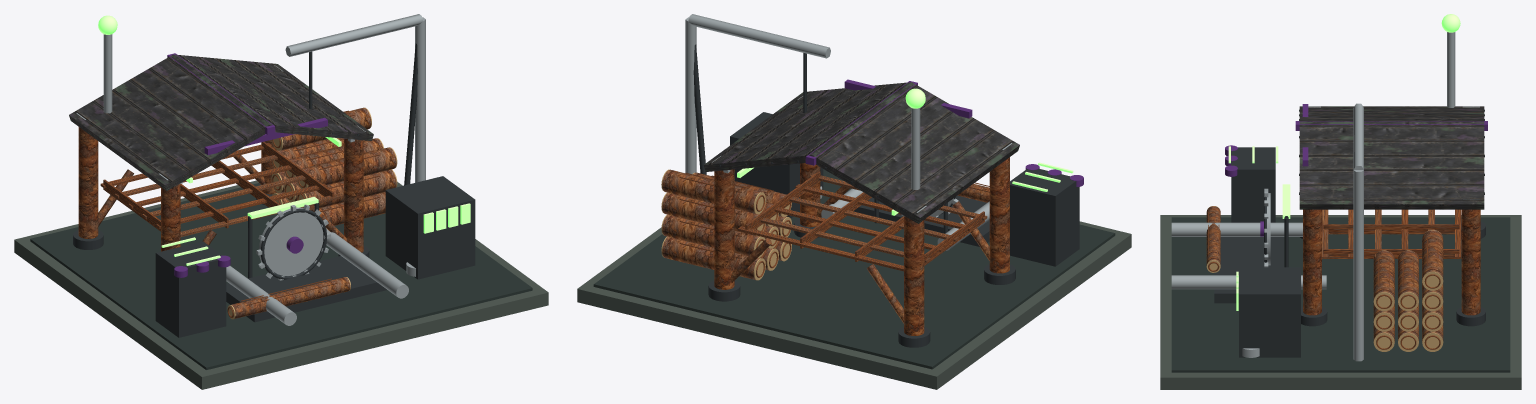
The model's file is timberline_l05.glb.
The picture shows the model from 3 angles, left to right: view 1: azimuth 30°, elevation 25°; view 2: azimuth 150°, elevation 25°; view 3: azimuth 270°, elevation 25°; orthographic projection. The views are drawn at different scales.
Visible parts, largest first — view 1: timberline_l05, stone_yard_base, hydraulic_sorter, auto_feed_motor, saw_carriage, circular_saw_blade, saw_safety_light; view 2: timberline_l05, stone_yard_base, auto_feed_motor, hydraulic_sorter, saw_carriage; view 3: timberline_l05, stone_yard_base, hydraulic_sorter, auto_feed_motor, saw_carriage, roof_spine.
Part boxes in pixels (<box>): timberline_l05: <box>30,14,532,369</box>; stone_yard_base: <box>14,180,548,389</box>; hydraulic_sorter: <box>385,176,475,279</box>; auto_feed_motor: <box>155,241,226,337</box>; saw_carriage: <box>226,256,386,322</box>; circular_saw_blade: <box>259,207,323,275</box>; saw_safety_light: <box>247,196,318,218</box>; timberline_l05: <box>593,14,1115,369</box>; stone_yard_base: <box>577,221,1131,389</box>; auto_feed_motor: <box>1010,168,1079,266</box>; hydraulic_sorter: <box>730,112,823,218</box>; saw_carriage: <box>853,195,989,246</box>; timberline_l05: <box>1171,32,1510,372</box>; stone_yard_base: <box>1160,215,1521,389</box>; hydraulic_sorter: <box>1239,267,1300,357</box>; auto_feed_motor: <box>1231,147,1275,222</box>; saw_carriage: <box>1214,237,1283,303</box>; roof_spine: <box>1295,121,1487,130</box>.
Size of the model in its own units: 6.5 by 4.46 by 6.1.
11 materials, 3 textured.
